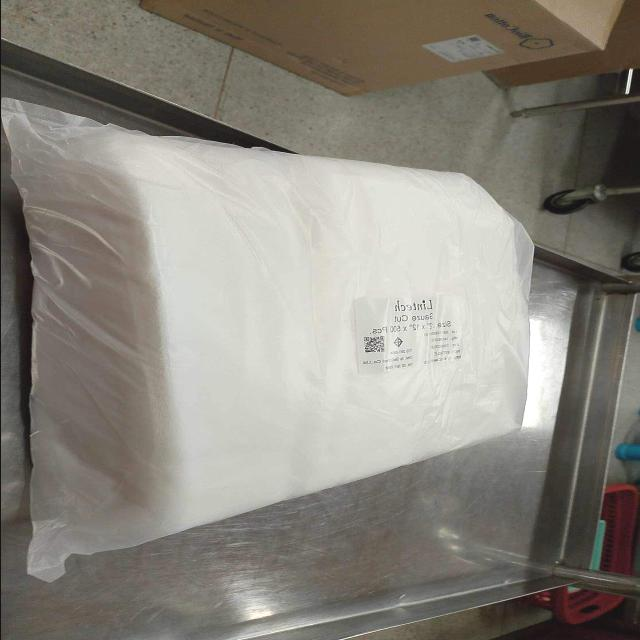General: (4, 97, 536, 583), (136, 0, 625, 99), (350, 294, 465, 376)
